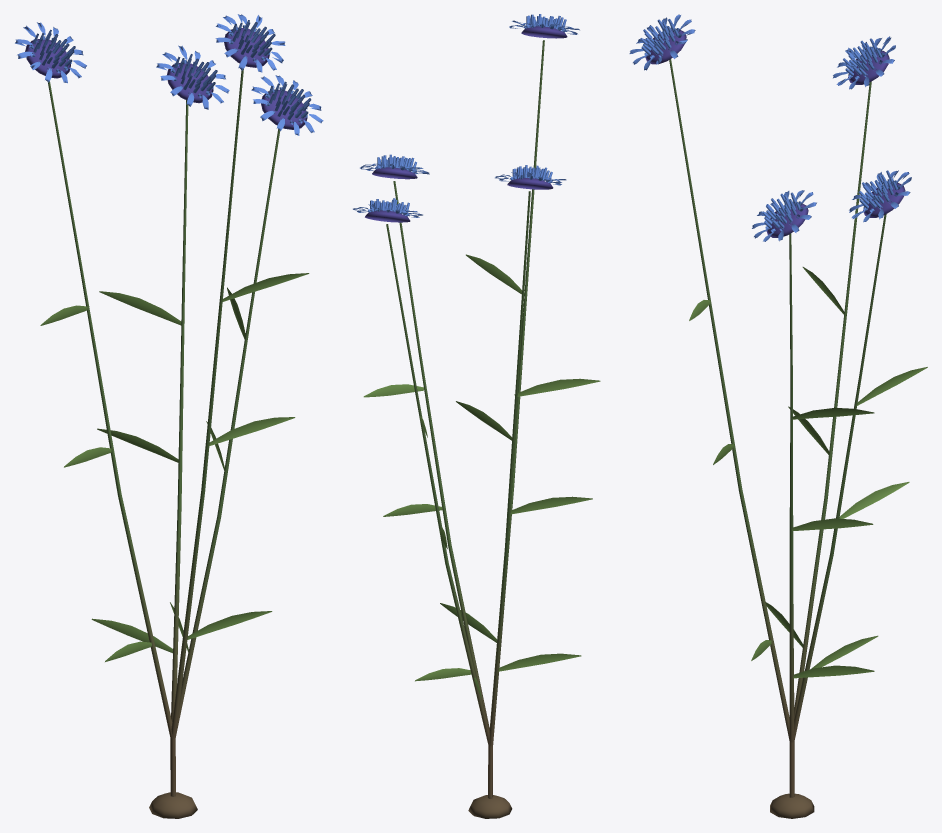
File: Cornflower.glb
The picture shows the model from 3 angles, left to right: view 1: azimuth 30°, elevation 25°; view 2: azimuth 150°, elevation 25°; view 3: azimuth 270°, elevation 25°; orthographic projection. The views are drawn at different scales.
Parts seen in each view (by area): view 1: Plant; view 2: Plant; view 3: Plant.
Part boxes in pixels (box(x1,y1,x2,y2)): Plant: box(15, 14, 323, 818); Plant: box(353, 14, 600, 818); Plant: box(629, 14, 927, 818).
Bounding box in the file's own units: 0.222 × 0.6531 × 0.2243.
